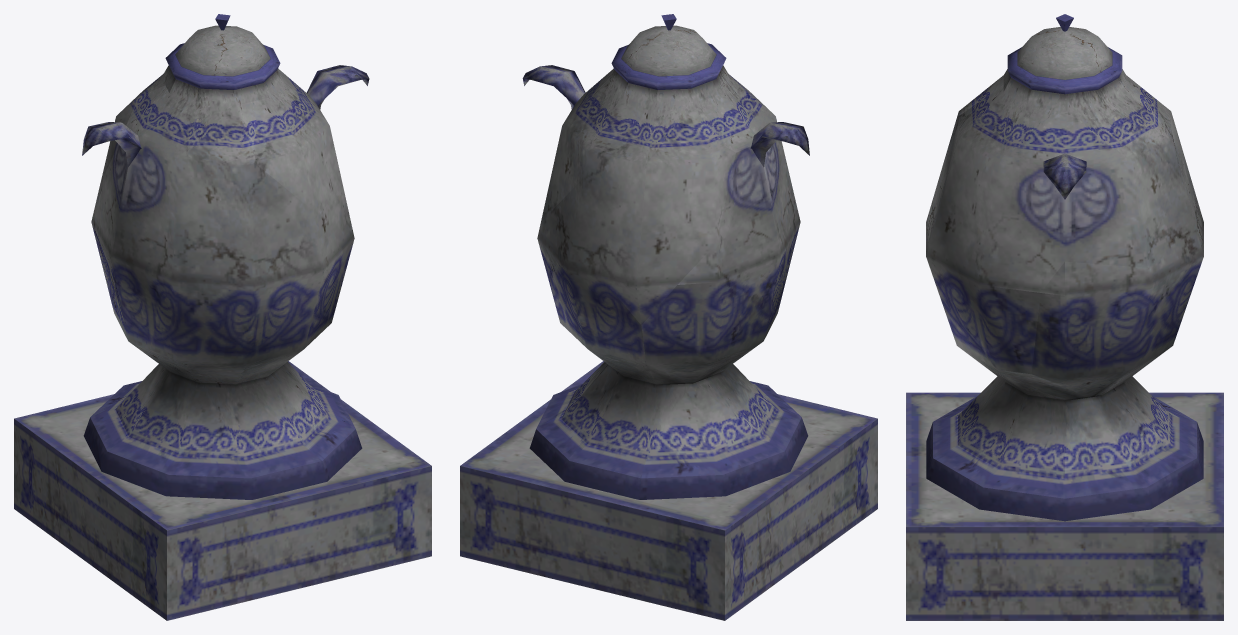
File: vase02_broken.dae
3 renders of one model, left to right at view 1: azimuth 30°, elevation 25°; view 2: azimuth 150°, elevation 25°; view 3: azimuth 270°, elevation 25°, orthographic. The views are drawn at different scales.
Visible parts, largest first — view 1: piece4, piece5, piece3, piece1, piece2; view 2: piece5, piece2, piece3, piece4, piece1; view 3: piece5, piece3, piece4, piece2, piece1.
Part boxes in pixels (x1,y1,x2,y2): piece4: [82, 65, 362, 499]; piece5: [14, 361, 431, 620]; piece3: [99, 65, 369, 210]; piece1: [165, 14, 280, 89]; piece2: [83, 290, 317, 471]; piece5: [460, 361, 877, 620]; piece2: [529, 177, 789, 499]; piece3: [522, 65, 735, 324]; piece4: [548, 65, 809, 471]; piece1: [611, 14, 726, 89]; piece5: [906, 392, 1223, 620]; piece3: [942, 69, 1203, 292]; piece4: [926, 69, 1149, 521]; piece2: [1031, 165, 1203, 509]; piece1: [1007, 14, 1122, 94].
Bounding box in the file's own units: 0.296 × 0.5103 × 0.2744.
